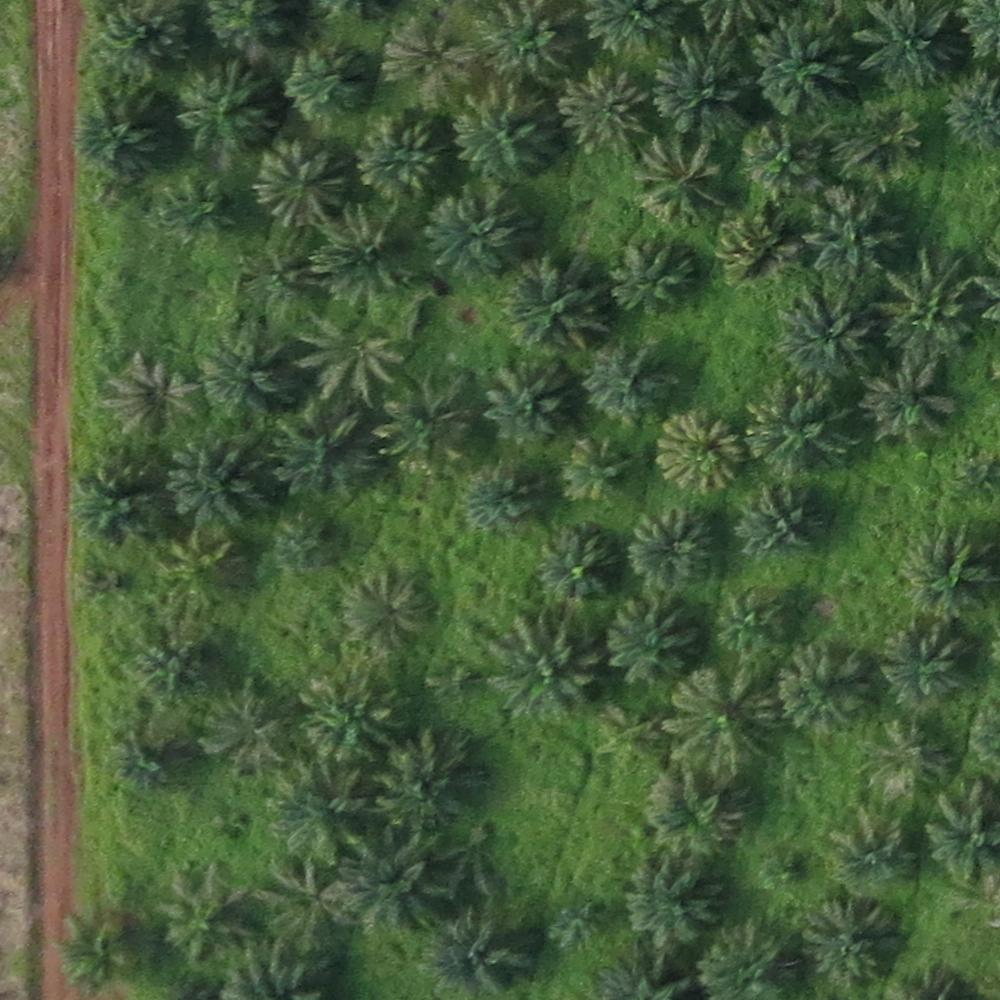Palm: (487, 609, 606, 721), (649, 38, 754, 140), (263, 401, 373, 497), (737, 378, 848, 473), (267, 761, 368, 863), (308, 202, 410, 301), (751, 15, 856, 110), (453, 86, 563, 176), (425, 184, 532, 275), (294, 312, 407, 398), (377, 731, 477, 828), (879, 256, 979, 352), (672, 672, 777, 763), (158, 862, 257, 957), (98, 350, 201, 441), (297, 668, 396, 762), (862, 360, 965, 450), (424, 909, 530, 996), (775, 641, 875, 733), (808, 188, 910, 278), (505, 262, 606, 352), (773, 290, 872, 381), (624, 861, 722, 952), (799, 894, 899, 983), (165, 443, 266, 531), (351, 832, 445, 926), (380, 374, 469, 472), (861, 1, 961, 88), (250, 141, 350, 227), (627, 136, 723, 225), (197, 331, 295, 418), (878, 622, 978, 707), (353, 112, 449, 200), (200, 689, 296, 776), (903, 527, 995, 617), (77, 84, 164, 178), (257, 863, 353, 948), (606, 597, 702, 682), (642, 775, 740, 858), (857, 717, 955, 800), (628, 504, 718, 592), (649, 411, 743, 494), (181, 63, 268, 152), (335, 576, 432, 654), (824, 808, 914, 892), (385, 21, 479, 100), (74, 462, 163, 544), (157, 532, 250, 610), (738, 477, 827, 558), (563, 71, 655, 149), (279, 49, 368, 129), (715, 208, 804, 288), (604, 239, 700, 313), (481, 1, 573, 78), (836, 105, 924, 185), (699, 921, 796, 992), (97, 2, 185, 77), (53, 912, 136, 991), (588, 343, 672, 421), (461, 457, 547, 532), (487, 361, 570, 438), (540, 525, 622, 602), (156, 173, 229, 248), (744, 129, 822, 199), (110, 726, 180, 801), (556, 438, 635, 504), (718, 590, 790, 658), (131, 640, 204, 700)
